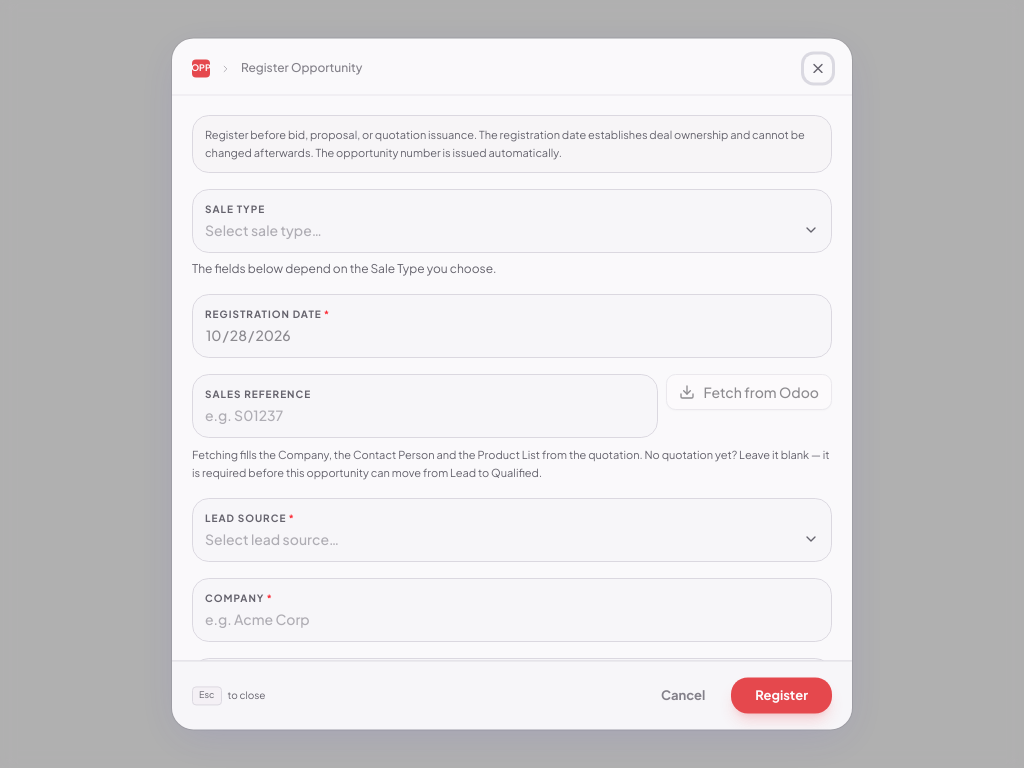
it: OpportunityFormModal — the customer fetched from Odoo › overwrites a Company that was typed by hand
Type "Makati LGU" into the field with placeholder "e.g. Acme Corp" at (512, 620), box [205,610,819,630]
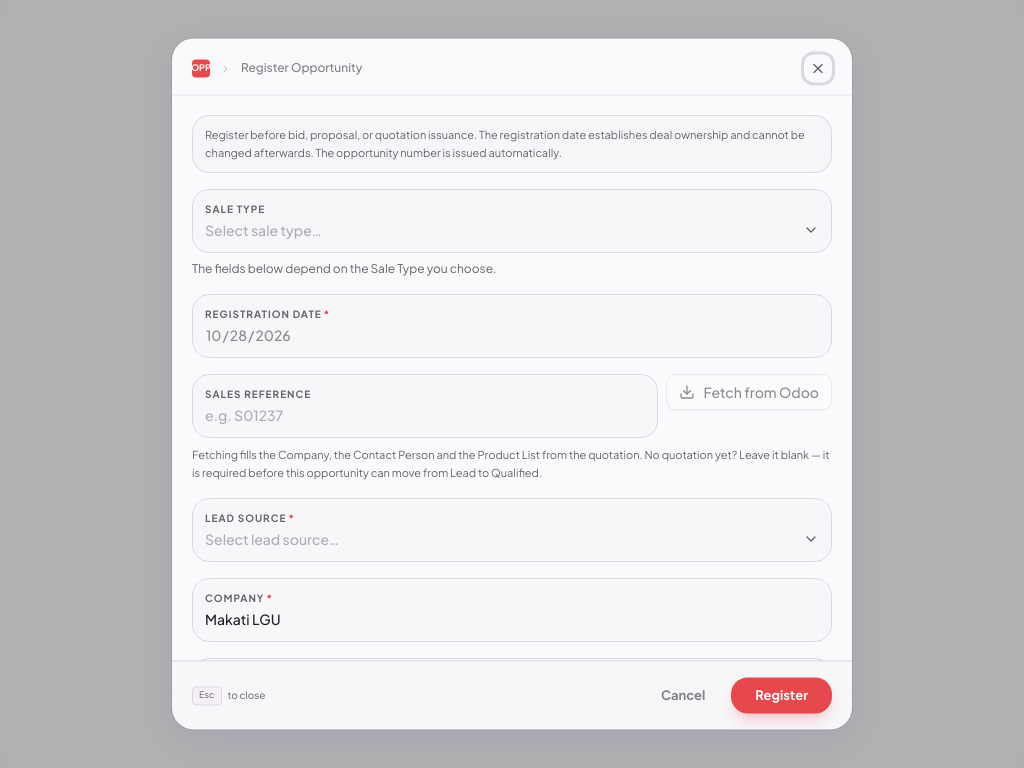
Type "S08234" into the field with placeholder "e.g. S01237" at (425, 416), box [205,406,646,426]
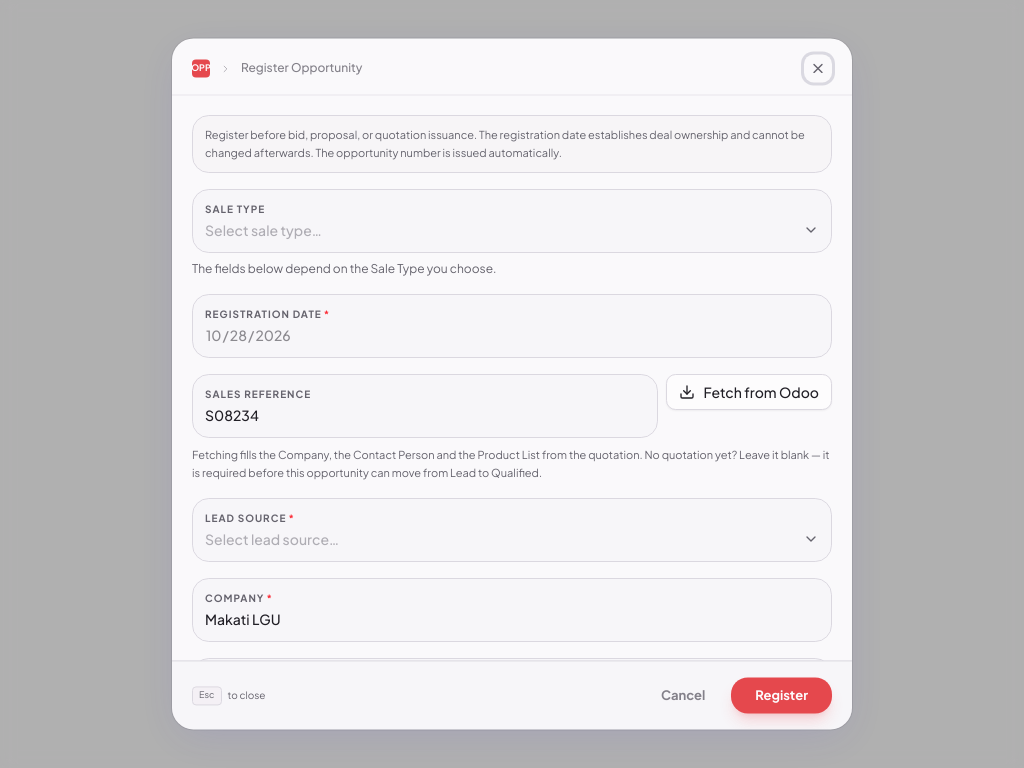
Click the button "Fetch from Odoo" at (749, 392), box [666,374,832,410]
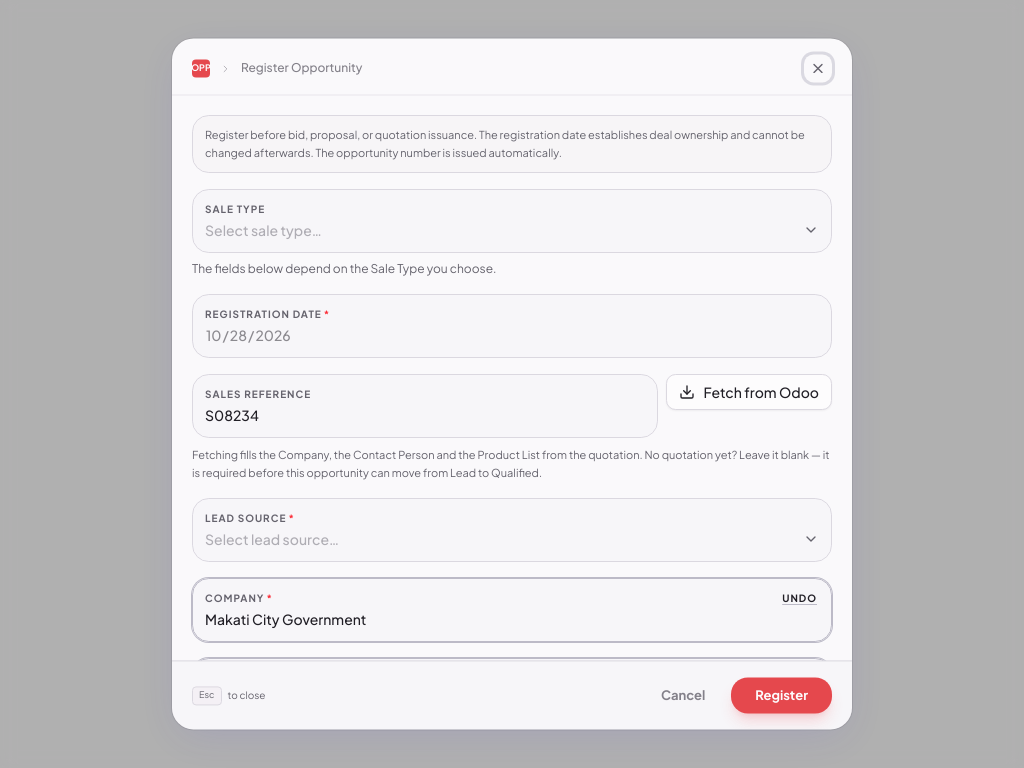
Check: the 2nd field with placeholder "e.g. Acme Corp" holds "Makati City Government", box [205,610,819,630]
